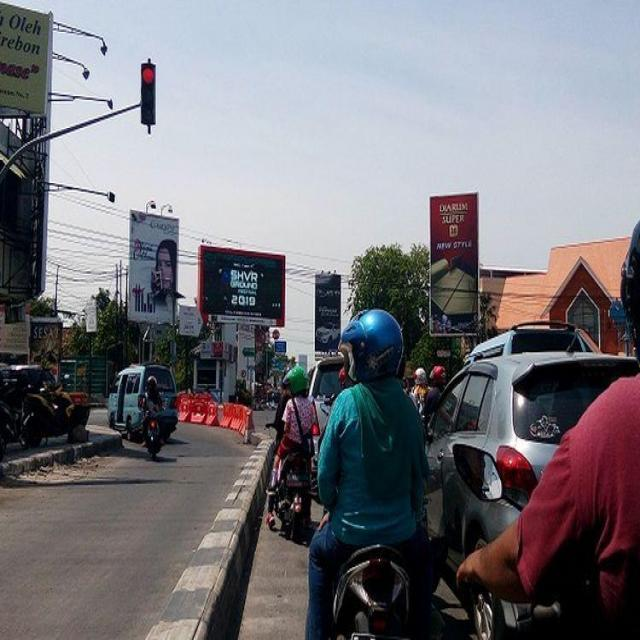red_light: (140, 62, 156, 124)
